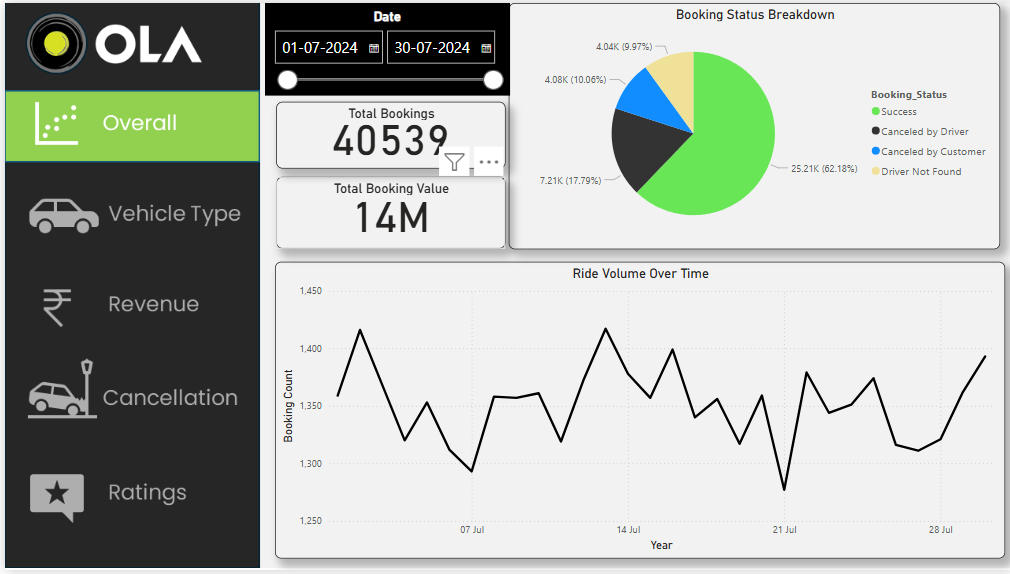

The page's visual inventory and layout, read from the dashboard file:
{"tool":"powerbi","page":{"name":"Overall","canvas":[1280,720],"ordinal":0},"visuals":[{"type":"actionButton","box":[0,220.8,323.3,91.7],"z":0},{"type":"actionButton","box":[0,337.8,323.3,94.1],"z":1000},{"type":"actionButton","box":[0,448.8,323.3,94.1],"z":2000},{"type":"actionButton","box":[0,576.7,323.3,94.1],"z":3000},{"type":"lineChart","title":"Ride Volume Over Time","fields":{"Category":["Bookings.Date.Variation.Date Hierarchy.Year","Bookings.Date.Variation.Date Hierarchy.Quarter","Bookings.Date.Variation.Date Hierarchy.Month","Bookings.Date.Variation.Date Hierarchy.Day"],"Y":["CountNonNull(Bookings.Booking_ID)"]},"box":[343.2,328.4,927,377],"z":4000},{"type":"pieChart","title":"Booking Status Breakdown","fields":{"Category":["Bookings.Booking_Status"],"Y":["CountNonNull(Bookings.Booking_Status)"]},"box":[640.2,0,624.1,312.6],"z":5000},{"type":"slicer","title":"Date","fields":{"Values":["Bookings.Date"]},"box":[329.7,0,310.8,117.6],"z":6000},{"type":"card","title":"Total Bookings","fields":{"Values":["CountNonNull(Bookings.Booking_ID)"]},"box":[343.7,125.3,290.8,85.1],"z":7000},{"type":"card","title":"Total Booking Value","fields":{"Values":["Sum(Bookings.Booking_Value)"]},"box":[343.7,220.7,290.8,90.8],"z":8000}]}

Visuals, with their boxes in screenshot pixels (x1, y1, x2, y2), scaled from the page's 1280x720 canvas onto the 1010x574 screenshot:
actionButton: <bbox>0, 176, 255, 249</bbox>
actionButton: <bbox>0, 269, 255, 344</bbox>
actionButton: <bbox>0, 358, 255, 433</bbox>
actionButton: <bbox>0, 460, 255, 535</bbox>
"Ride Volume Over Time" lineChart: <bbox>271, 262, 1002, 562</bbox>
"Booking Status Breakdown" pieChart: <bbox>505, 0, 998, 249</bbox>
"Date" slicer: <bbox>260, 0, 505, 94</bbox>
"Total Bookings" card: <bbox>271, 100, 501, 168</bbox>
"Total Booking Value" card: <bbox>271, 176, 501, 248</bbox>
